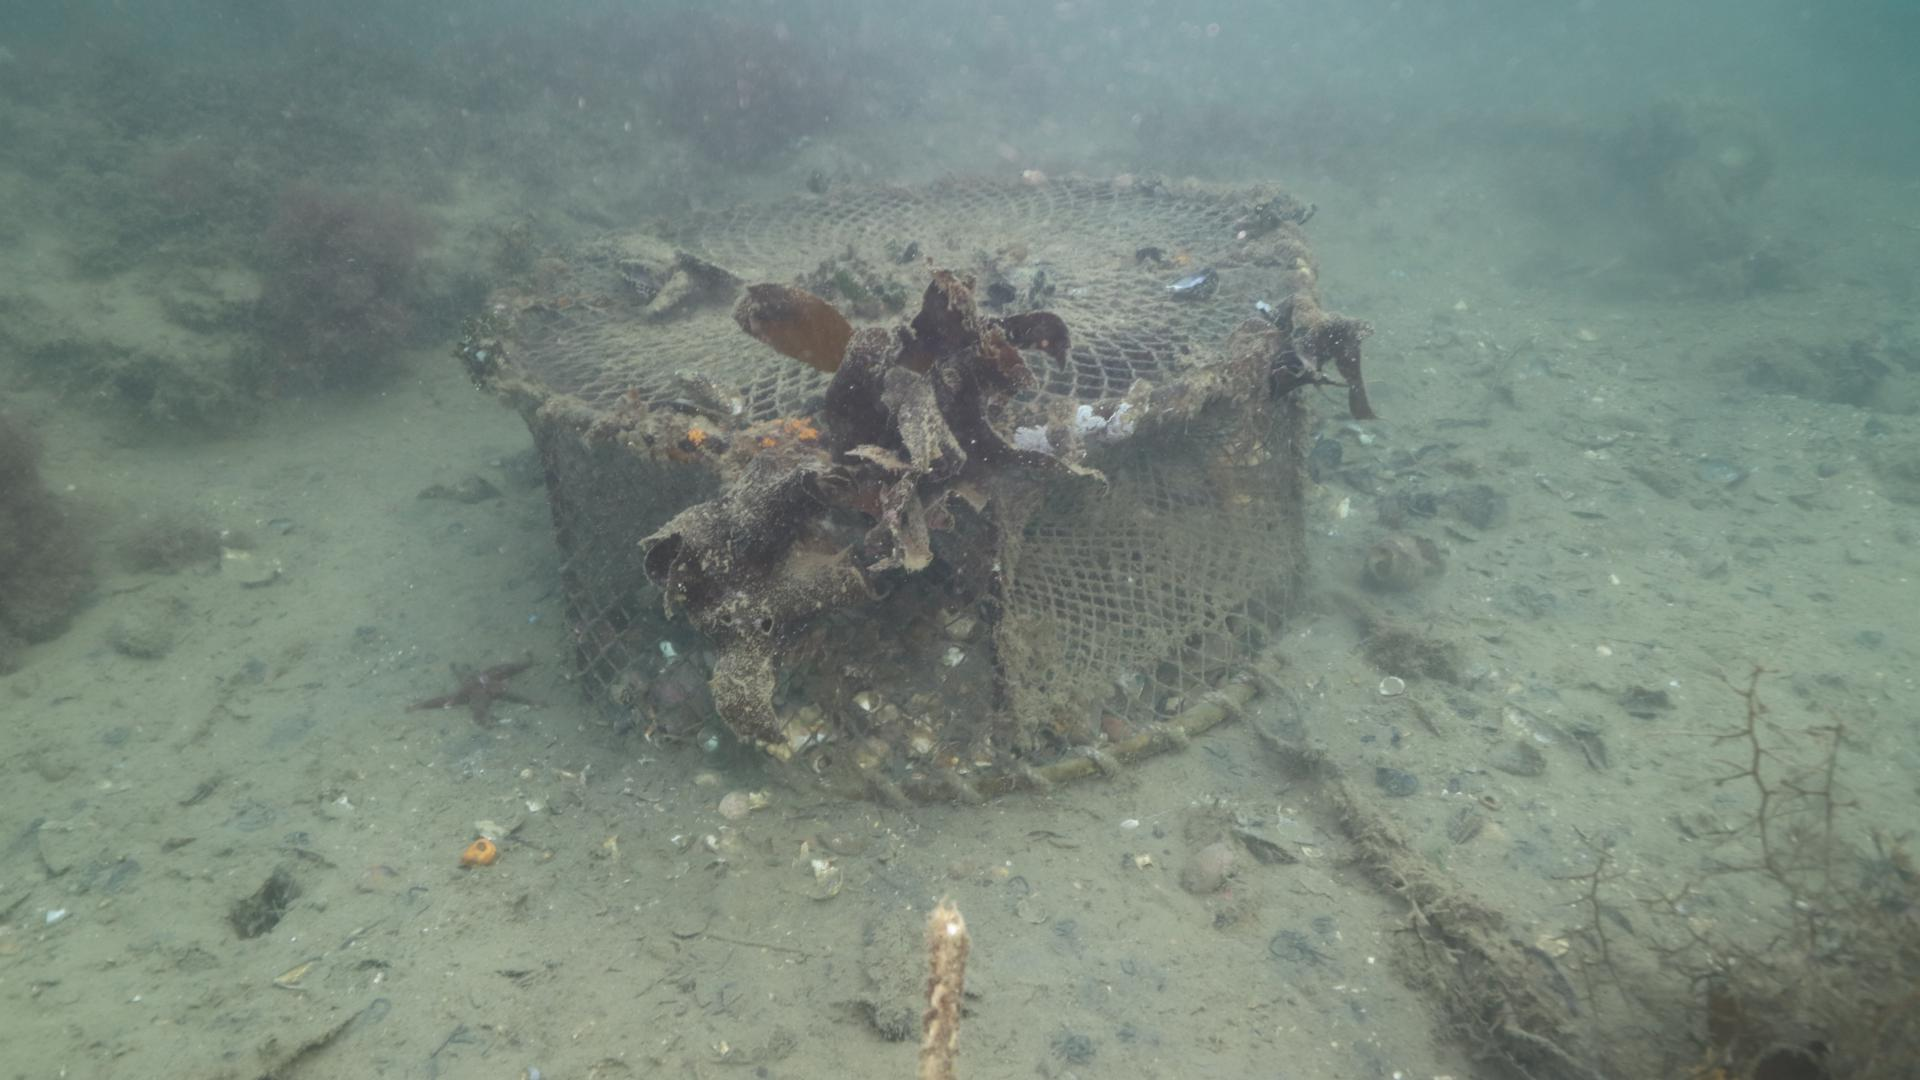circular fish trap: (473, 169, 1319, 807)
